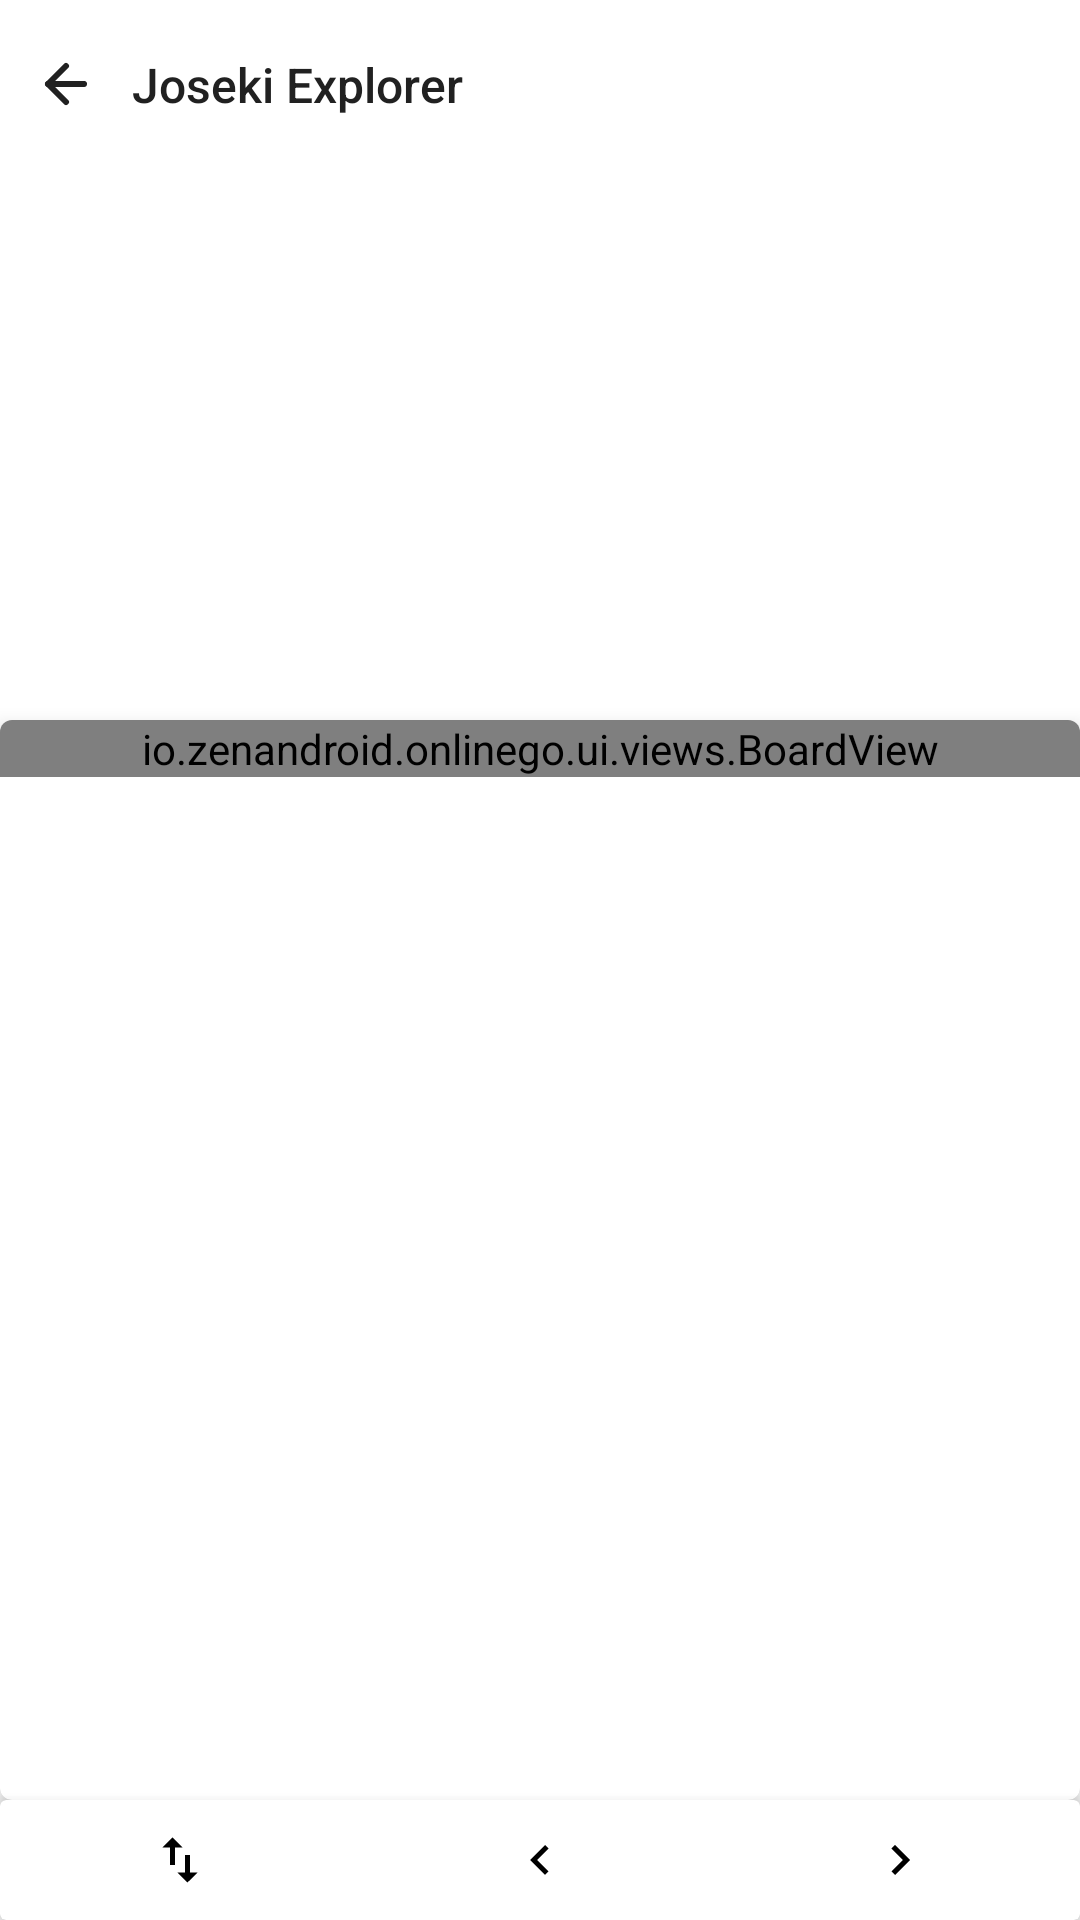

Named icons in this screenshot (1080 × 1920) and their centers, point (x, y):
arrow back: point (66, 84)
navigate previous: point (539, 1860)
